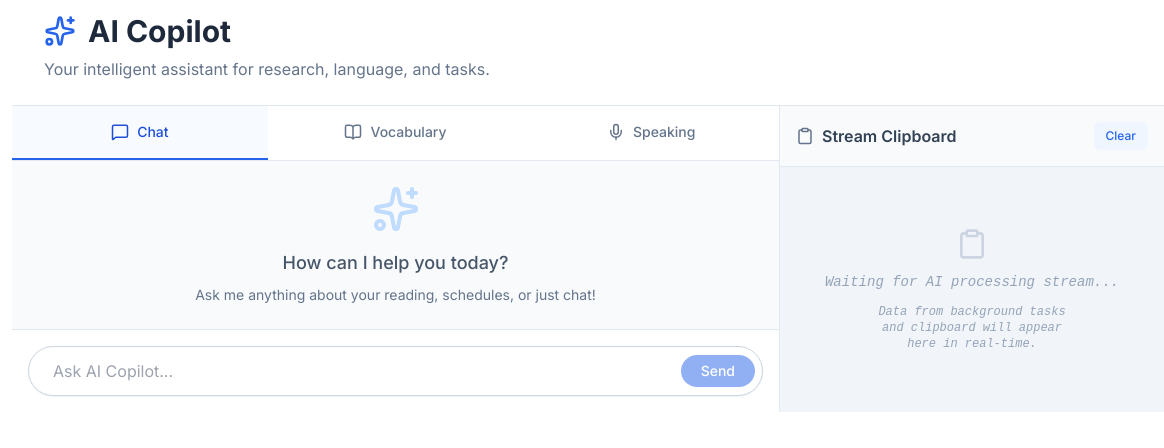
it: CopilotPage › sends a chat message via streaming fetch and renders the streamed reply
Step 1. Type "Hi there" into the field with placeholder "Ask AI Copilot..." → (396, 371), box [28, 346, 763, 396]
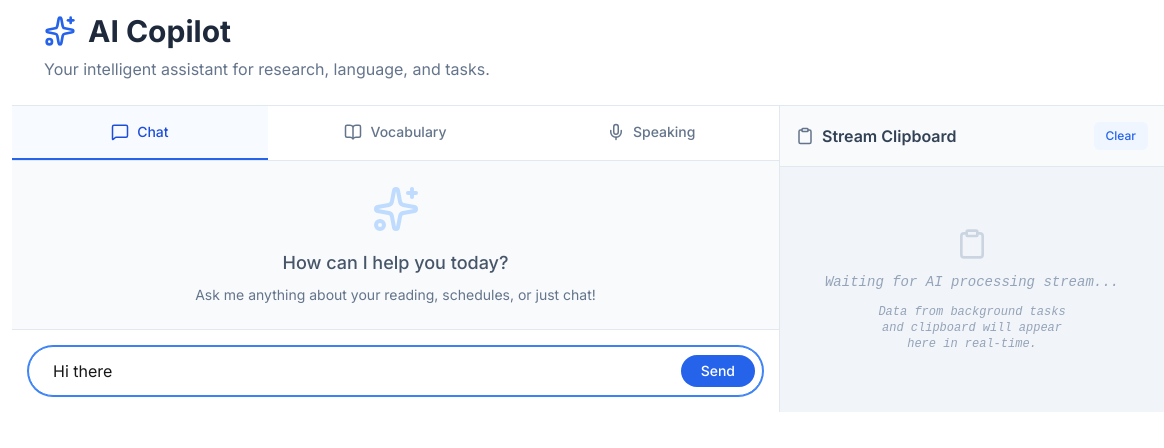
Step 2. Click the button "Send" → (718, 371), box [681, 355, 755, 387]
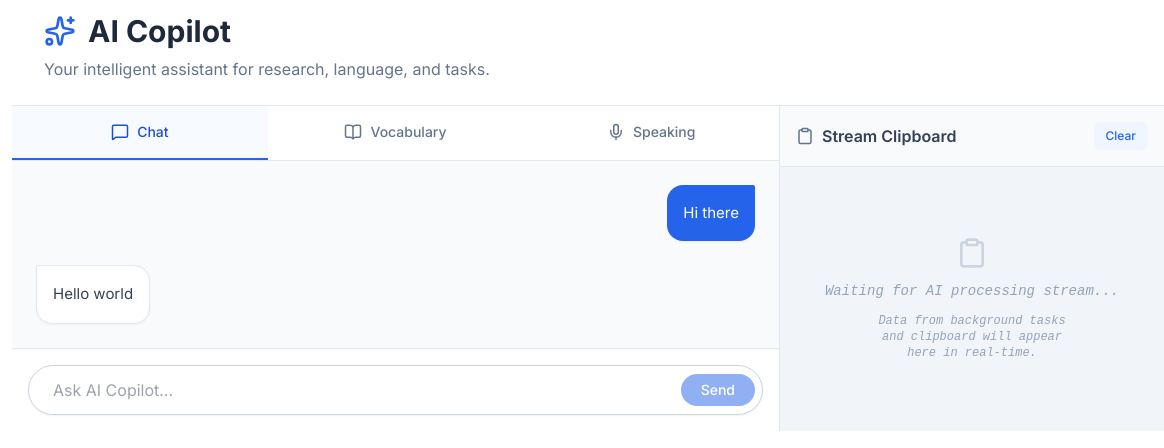
Expected: the text "Hi there" is shown, [667, 185, 755, 241]
Expected: the text "Hello world" is shown, [36, 265, 150, 324]
